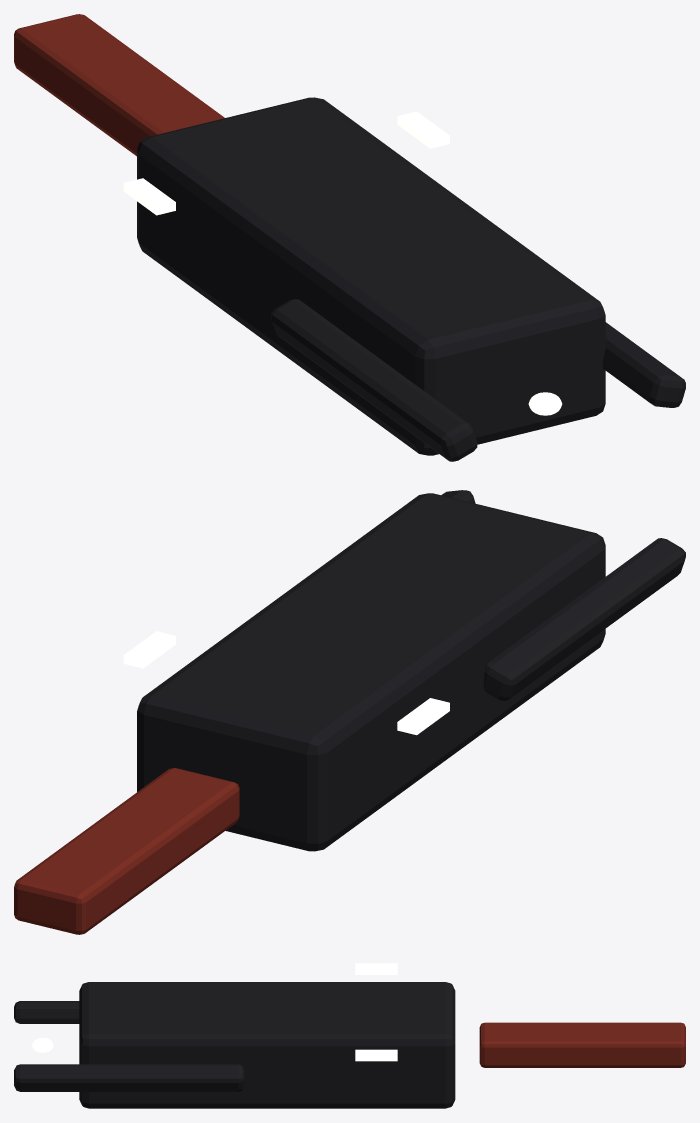
3 renders of one model, top to bottom at view 1: azimuth 30°, elevation 25°; view 2: azimuth 150°, elevation 25°; view 3: azimuth 270°, elevation 25°, orthographic. The views are drawn at different scales.
Visible parts, largest first — view 1: RIMWARD_HULL, RIMWARD_EMISSIVE; view 2: RIMWARD_HULL, RIMWARD_EMISSIVE; view 3: RIMWARD_HULL, RIMWARD_EMISSIVE, RIMWARD_ENGINE_GLOW.
Boxes of the visible parts, x1,y1,x2,y2 form: RIMWARD_HULL: [14, 14, 685, 461]; RIMWARD_EMISSIVE: [123, 111, 449, 215]; RIMWARD_HULL: [14, 490, 685, 934]; RIMWARD_EMISSIVE: [123, 631, 449, 735]; RIMWARD_HULL: [14, 982, 685, 1108]; RIMWARD_EMISSIVE: [355, 963, 397, 1061]; RIMWARD_ENGINE_GLOW: [32, 1037, 53, 1052].
Size of the model in its own units: 2.59 by 0.9793 by 7.97.
